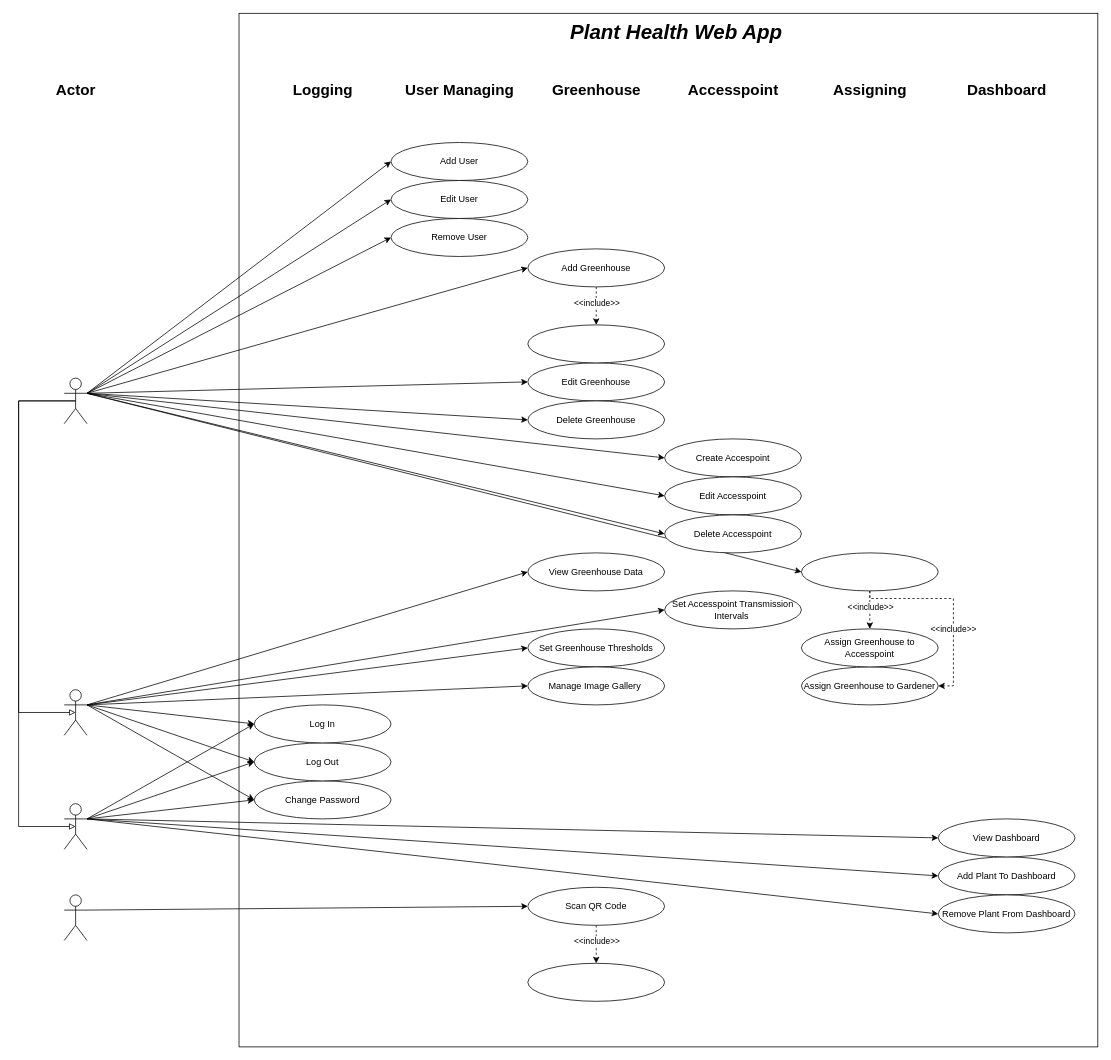
Image size: 1111x1060. Some labels were removed from this diagram. The shapes that lost their labels are listed below. From the top down, each one's centre as x and y in pixels, then its label:
At (x=596, y=343): "Assign UUID".
At (x=75, y=400): "Administrator".
At (x=869, y=571): "Search new Greenhouse".
At (x=75, y=712): "Gardener".
At (x=75, y=826): "User".
At (x=75, y=917): "Visitor".
At (x=596, y=982): "Upload Picture To Gallery".
